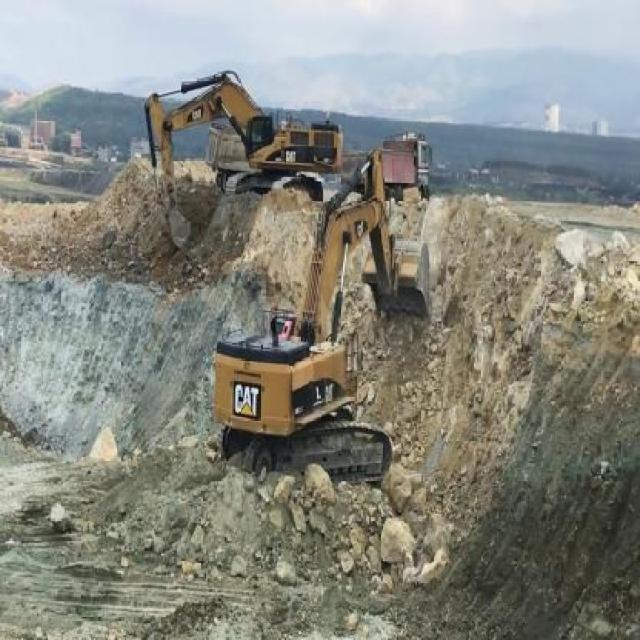dump_truck: (359, 118, 433, 192)
excavator: (213, 149, 430, 494), (141, 64, 344, 245)
